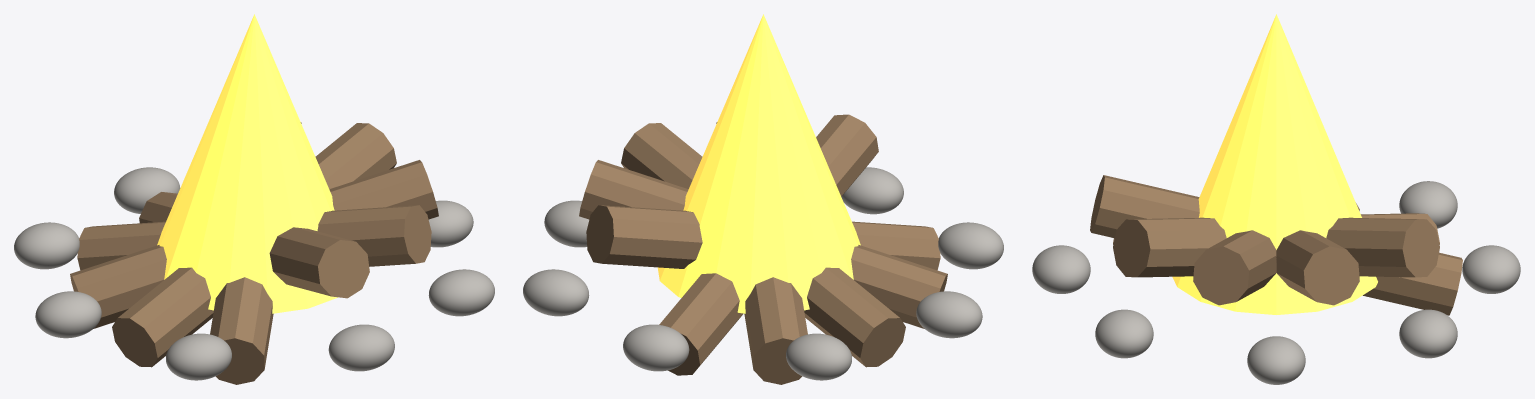
Rendered from campfire.glb.
3 views of the same model, side by side, from view 1: azimuth 30°, elevation 25°; view 2: azimuth 150°, elevation 25°; view 3: azimuth 270°, elevation 25° (orthographic).
Parts seen in each view (by area): view 1: Campfire_FlameOuter, Campfire_Log_3, Campfire_Log_2, Campfire_Log_1, Campfire_Log_0, Campfire_Log_4, Campfire_Stone_7, Campfire_Stone_6, Campfire_Stone_4, Campfire_Stone_5, Campfire_Stone_3, Campfire_Stone_2 (+1 smaller); view 2: Campfire_FlameOuter, Campfire_Log_2, Campfire_Log_4, Campfire_Log_3, Campfire_Log_0, Campfire_Log_1, Campfire_Stone_1, Campfire_Stone_2, Campfire_Stone_4, Campfire_Stone_3, Campfire_Stone_5, Campfire_Stone_6 (+1 smaller); view 3: Campfire_FlameOuter, Campfire_Log_0, Campfire_Log_1, Campfire_Log_4, Campfire_Log_2, Campfire_Log_3, Campfire_Stone_1, Campfire_Stone_7, Campfire_Stone_0, Campfire_Stone_2, Campfire_Stone_6, Campfire_Stone_3.
Boxes of the visible parts, box(x1,y1,x2,y2) form: Campfire_FlameOuter: box(157, 14, 337, 313); Campfire_Log_3: box(112, 123, 396, 367); Campfire_Log_2: box(70, 160, 438, 328); Campfire_Log_1: box(77, 205, 431, 270); Campfire_Log_0: box(139, 192, 369, 298); Campfire_Log_4: box(210, 122, 301, 384); Campfire_Stone_7: box(428, 269, 494, 316); Campfire_Stone_6: box(328, 324, 394, 371); Campfire_Stone_4: box(35, 291, 101, 338); Campfire_Stone_5: box(166, 333, 231, 380); Campfire_Stone_3: box(14, 222, 79, 269); Campfire_Stone_2: box(114, 167, 180, 213); Campfire_FlameOuter: box(657, 14, 860, 313); Campfire_Log_2: box(621, 123, 905, 367); Campfire_Log_4: box(586, 205, 940, 270); Campfire_Log_3: box(579, 160, 947, 328); Campfire_Log_0: box(659, 114, 878, 375); Campfire_Log_1: box(716, 122, 807, 384); Campfire_Stone_1: box(523, 269, 589, 316); Campfire_Stone_2: box(623, 324, 689, 371); Campfire_Stone_4: box(916, 291, 982, 338); Campfire_Stone_3: box(786, 333, 851, 380); Campfire_Stone_5: box(938, 222, 1003, 269); Campfire_Stone_6: box(841, 167, 903, 214); Campfire_FlameOuter: box(1172, 14, 1377, 314); Campfire_Log_0: box(1090, 175, 1462, 315); Campfire_Log_1: box(1113, 213, 1439, 277); Campfire_Log_4: box(1113, 217, 1439, 277); Campfire_Log_2: box(1193, 203, 1359, 305); Campfire_Log_3: box(1276, 230, 1359, 305); Campfire_Stone_1: box(1399, 309, 1457, 358); Campfire_Stone_7: box(1095, 309, 1153, 358); Campfire_Stone_0: box(1247, 336, 1305, 384); Campfire_Stone_2: box(1462, 245, 1520, 293); Campfire_Stone_6: box(1032, 245, 1090, 293); Campfire_Stone_3: box(1399, 181, 1457, 228).
Size of the model in its own units: 0.7424 by 0.4916 by 0.7271.
